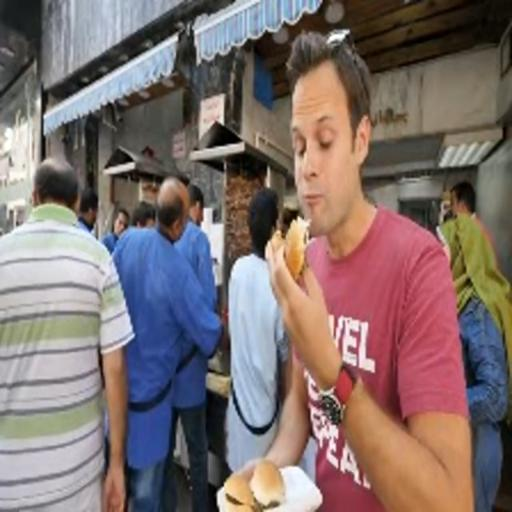nao-violencia: (104, 174, 297, 510)
